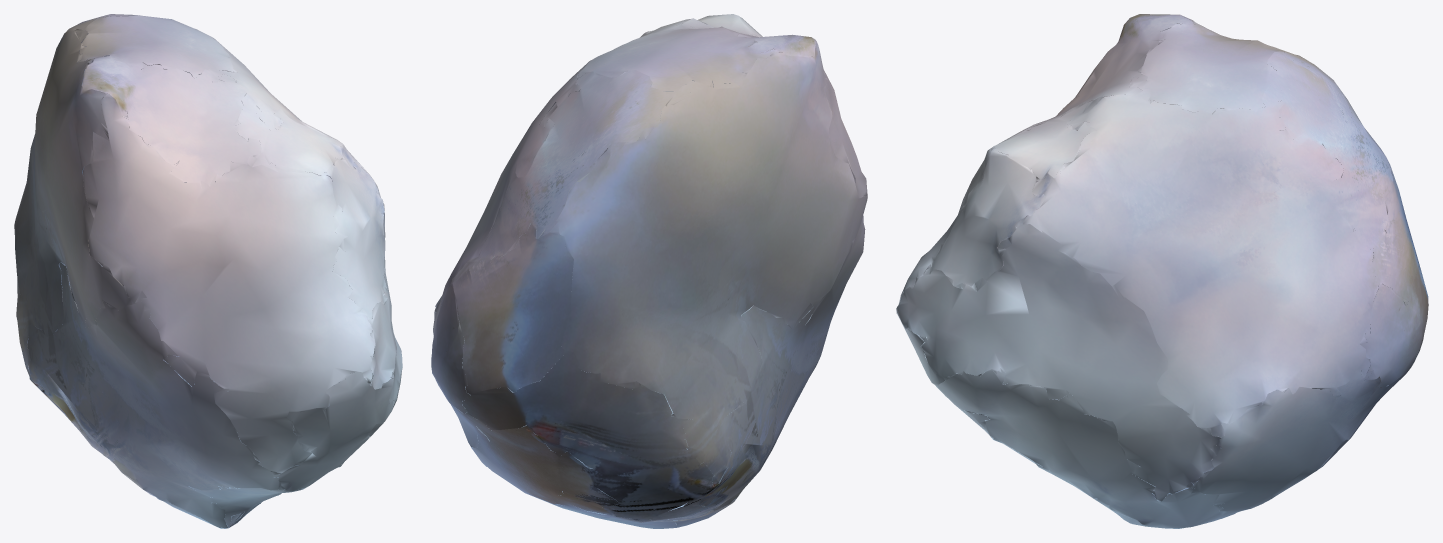
File: cloud.glb
3 renders of one model, left to right at view 1: azimuth 30°, elevation 25°; view 2: azimuth 150°, elevation 25°; view 3: azimuth 270°, elevation 25°, orthographic. The views are drawn at different scales.
Parts seen in each view (by area): view 1: cloud; view 2: cloud; view 3: cloud.
Boxes of the visible parts, bbox=[...] form: cloud: bbox=[14, 14, 402, 528]; cloud: bbox=[431, 14, 867, 528]; cloud: bbox=[896, 14, 1428, 528].
Size of the model in its own units: 5.35 by 7.64 by 8.09.
Materials: 1 (1 with a texture image).
